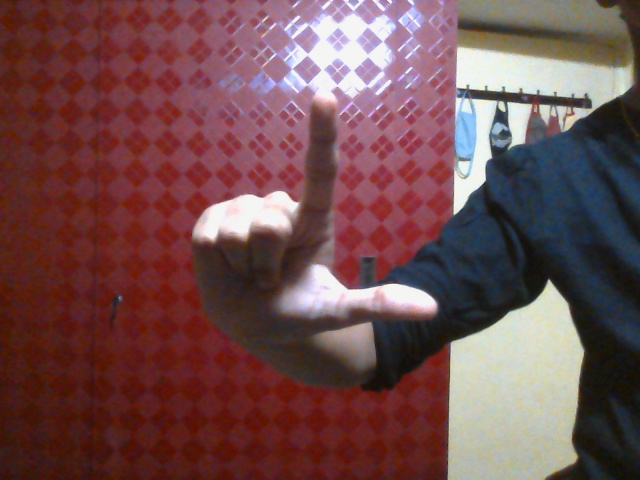L: (191, 90, 439, 339)
